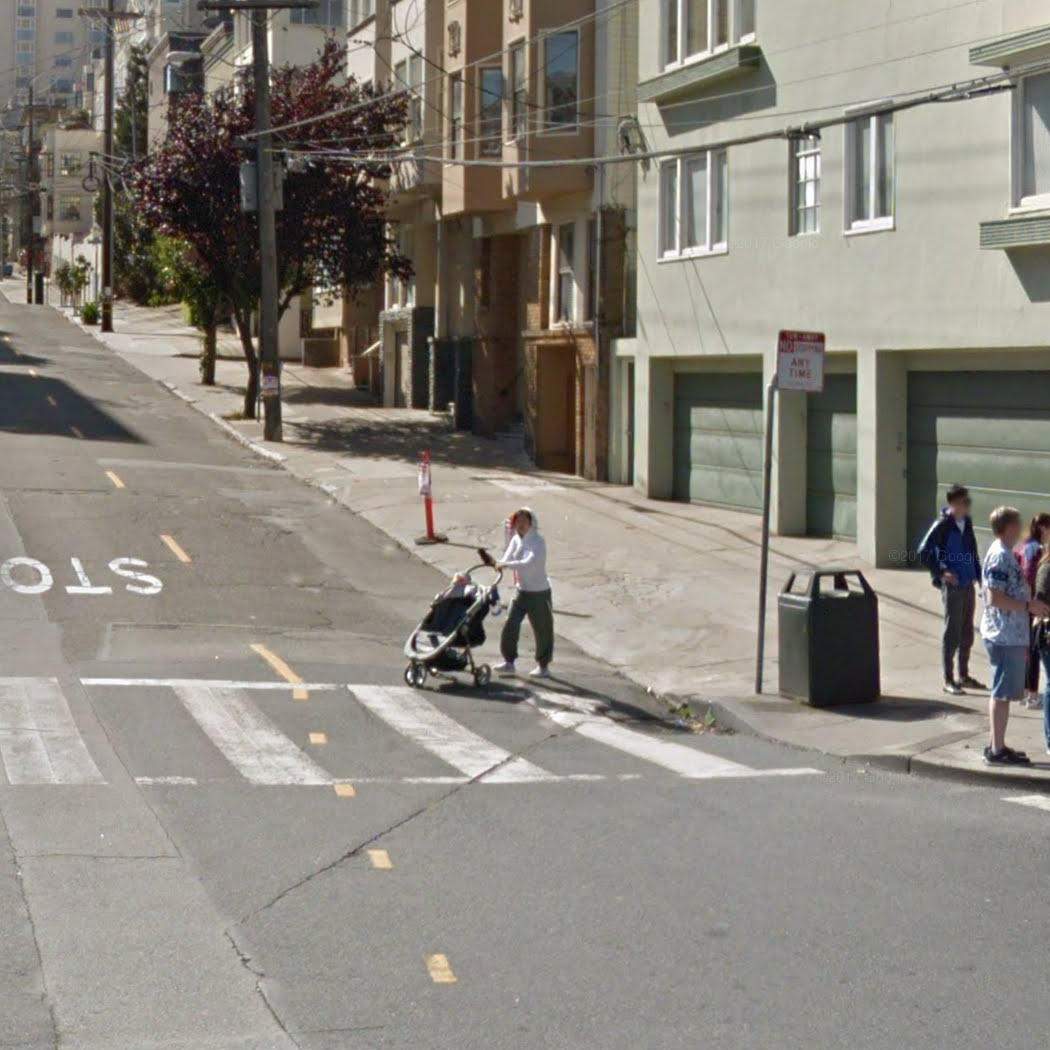No Parking Anytime: (773, 326, 826, 395)
